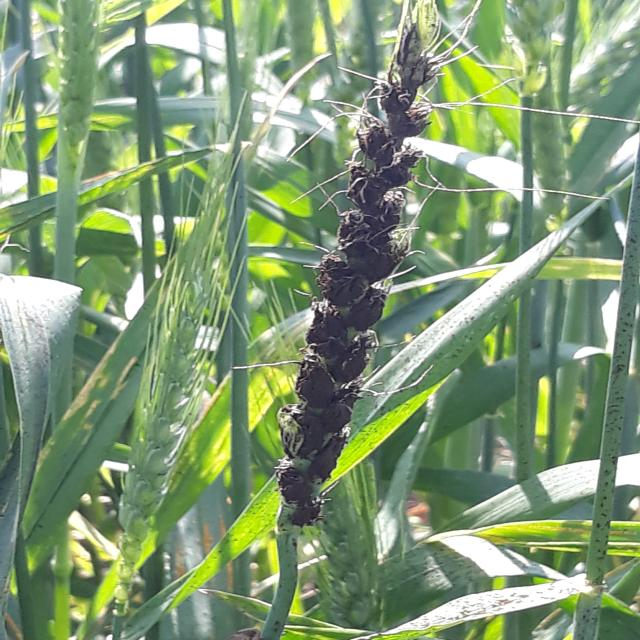loose_charred: (239, 0, 461, 640), (562, 170, 639, 640), (374, 572, 596, 633)
